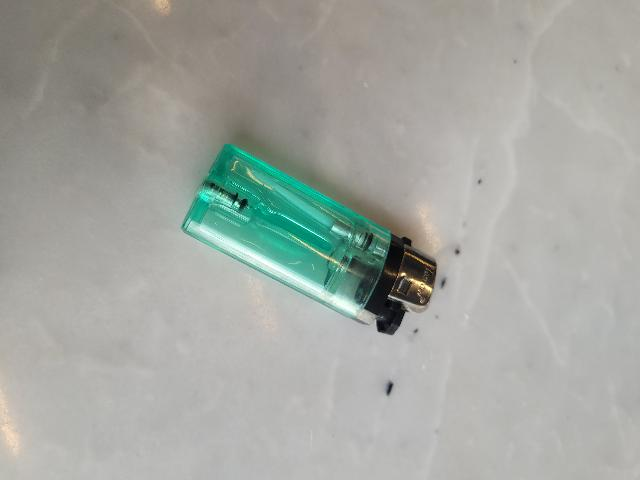Metal: (387, 247, 442, 315)
Plastik: (176, 141, 396, 352)
